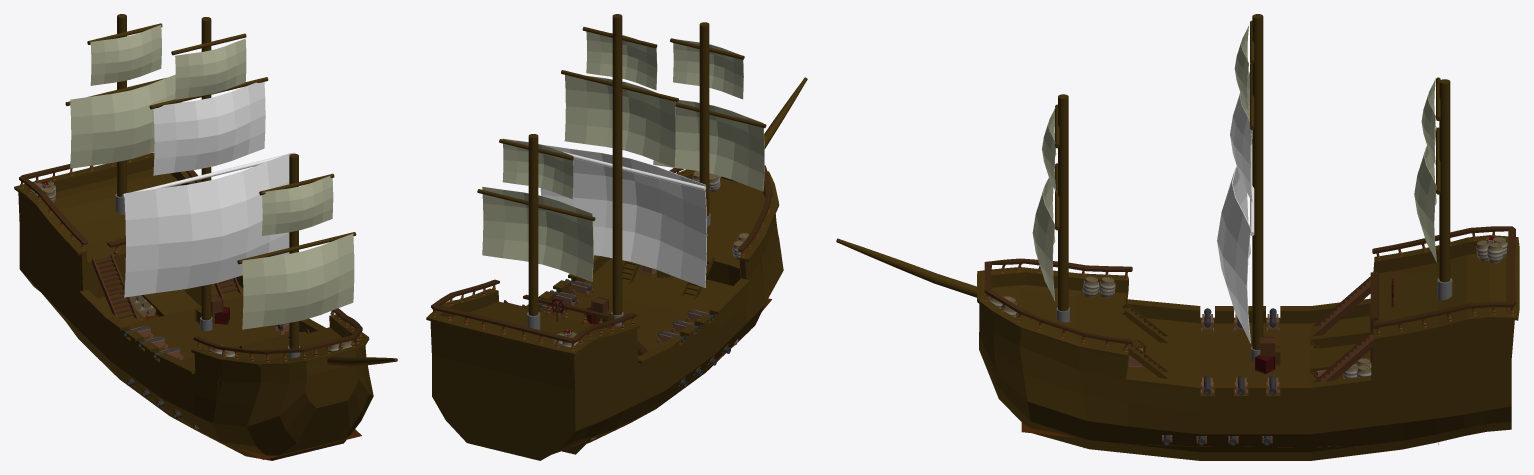
Rendered from bootmodel.fbx.
3 renders of one model, left to right at view 1: azimuth 30°, elevation 25°; view 2: azimuth 150°, elevation 25°; view 3: azimuth 270°, elevation 25°, orthographic. The views are drawn at different scales.
Visible parts, largest first — view 1: Cube, Plane.006, Plane.011, Plane.005, Plane.010, Plane.007, Plane.013, Plane.012, Cube.013, Cube.001, Cube.002, Cylinder (+8 smaller); view 2: Cube, Plane.006, Plane.008, Plane.010, Plane.011, Cylinder, Plane.007, Plane.012, Plane.013, Cylinder.001, Cylinder.002, Cube.002 (+7 smaller); view 3: Cube, Cylinder, Plane.006, Cylinder.001, Cylinder.002, Cube.002, Cube.013, Cube.001, Plane.011, Plane.010, Cylinder.003, Plane.005 (+4 smaller).
Boxes of the visible parts, x1,y1,x2,y2 form: Cube: (14,152,373,460); Plane.006: (124,152,291,297); Plane.011: (242,233,354,329); Plane.005: (153,82,265,175); Plane.010: (70,74,182,168); Plane.007: (175,38,246,99); Plane.013: (90,25,161,85); Plane.012: (262,175,333,235); Cube.013: (92,254,242,319); Cube.001: (193,308,362,354); Cube.002: (19,164,201,244); Cylinder: (201,17,211,320); Cube: (426,169,783,460); Plane.006: (540,144,707,287); Plane.008: (564,75,676,167); Plane.010: (482,186,593,281); Plane.011: (653,100,764,191); Cylinder: (612,14,622,315); Plane.007: (586,31,657,90); Plane.012: (673,39,743,99); Plane.013: (502,138,573,199); Cylinder.001: (528,134,538,315); Cylinder.002: (699,22,709,216); Cube.002: (431,279,636,342); Cube: (977,235,1519,460); Cylinder: (1252,14,1263,350); Plane.006: (1217,166,1250,343); Cylinder.001: (1439,79,1450,282); Cylinder.002: (1058,94,1068,311); Cube.002: (1372,226,1515,328); Cube.013: (1313,276,1374,382); Cube.001: (984,258,1132,344); Plane.011: (1032,165,1055,300); Plane.010: (1414,126,1436,262); Cylinder.003: (836,238,976,297); Plane.005: (1230,93,1251,201).
Size of the model in its own units: 436 by 930 by 1357.
